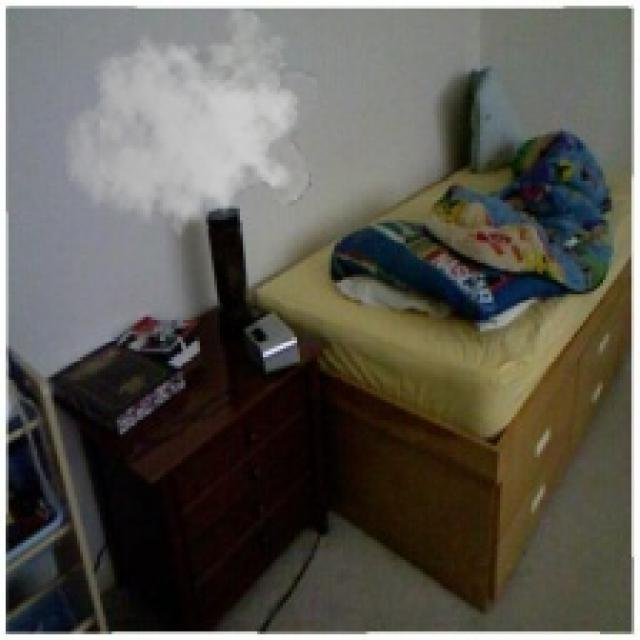Smoke: (62, 8, 318, 248)
